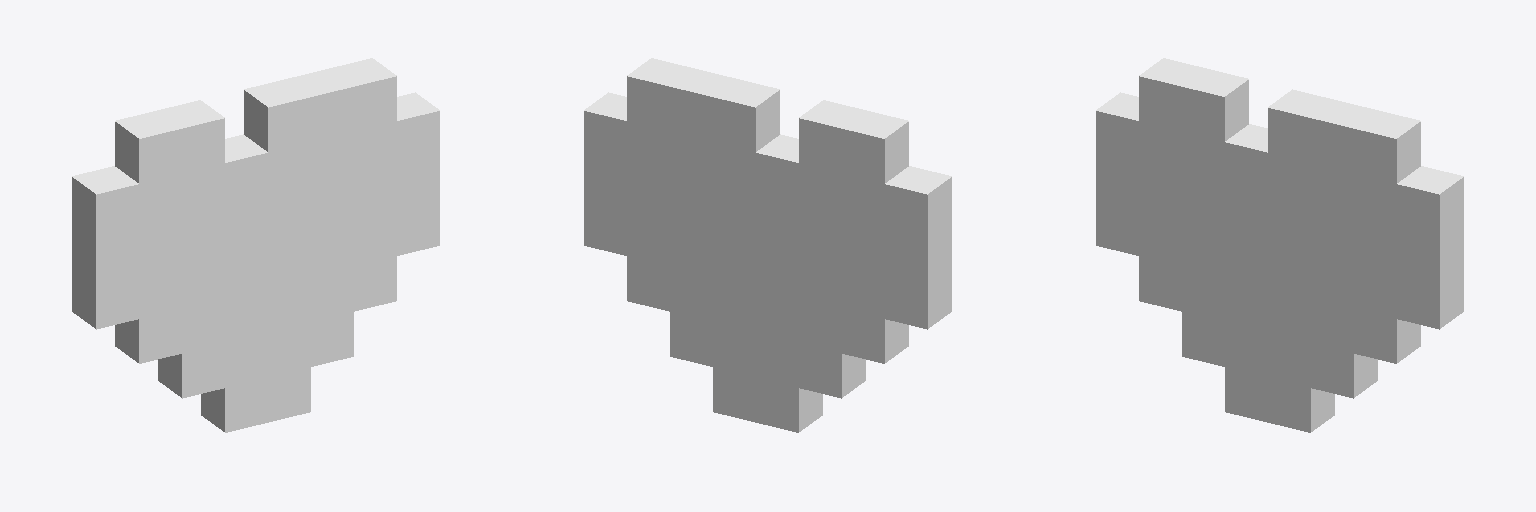
The model's file is heart_full.obj.
3 views of the same model, side by side, from view 1: azimuth 30°, elevation 25°; view 2: azimuth 150°, elevation 25°; view 3: azimuth 330°, elevation 25° (orthographic).
Bounding box in the file's own units: 8 × 7 × 1.